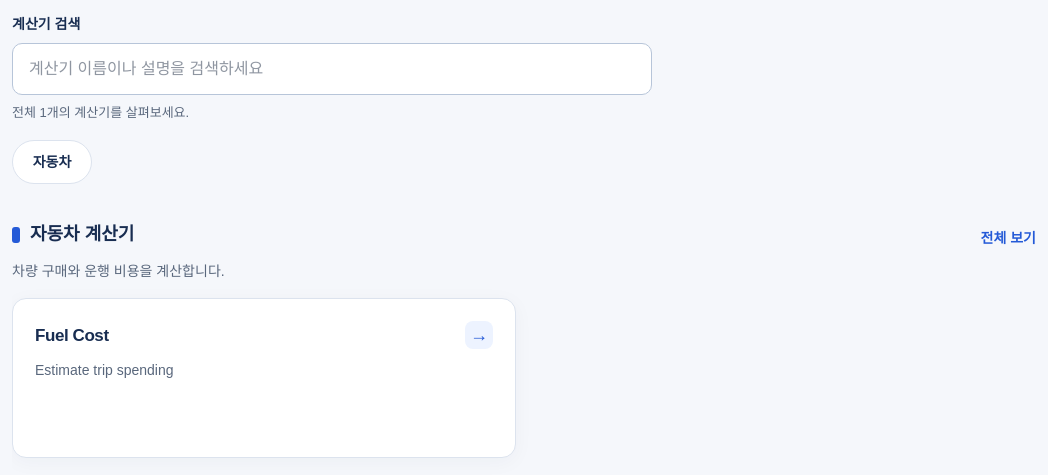
matches case-insensitively against only calculator titles and descriptions
This screenshot has width=1048, height=475.
Type "fUeL" into the search field labelled "계산기 검색" at (332, 69), box [12,43,652,95]
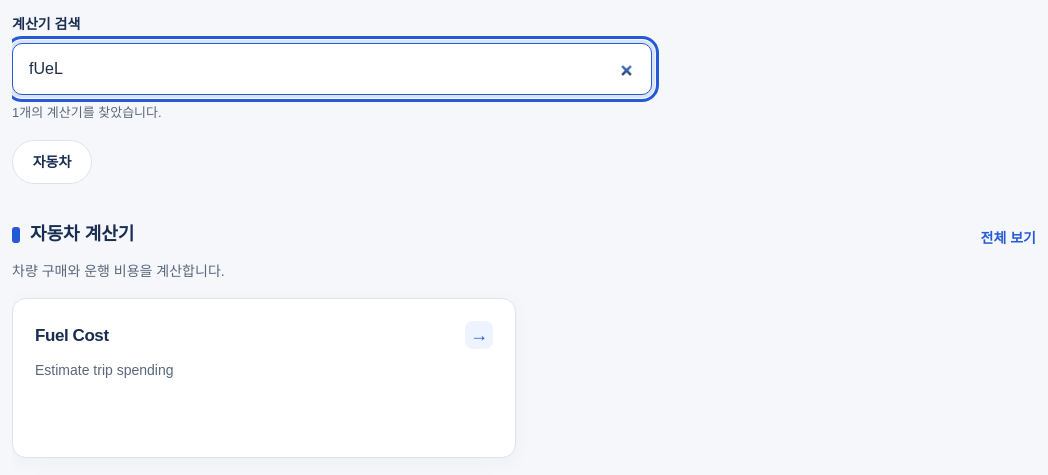
Expected: the link "Fuel Cost Estimate trip spending →" is shown, [12,298,516,458]
Replace the text in the search field labelled "계산기 검색" with "TRIP" at (332, 69), box [12,43,652,95]
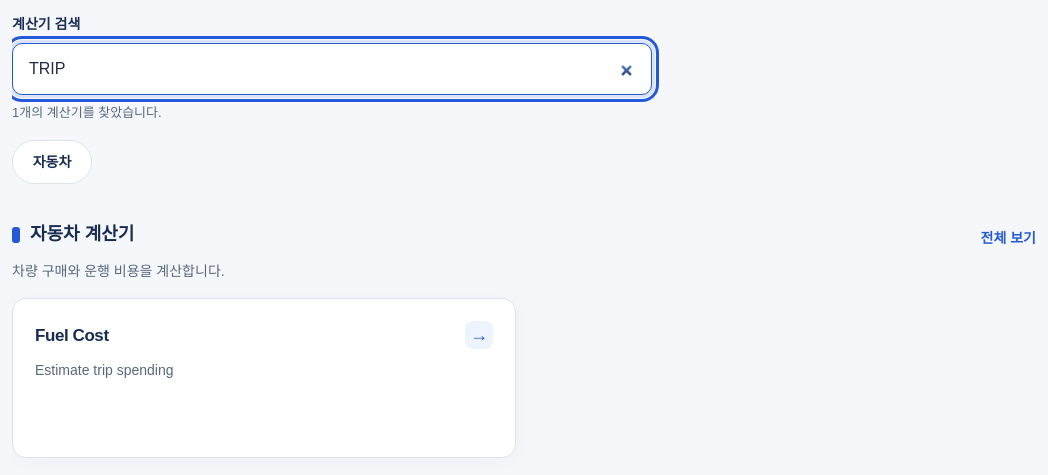
Expected: the link "Fuel Cost Estimate trip spending →" is shown, [12,298,516,458]
Replace the text in the search field labelled "계산기 검색" with "자동차" at (332, 69), box [12,43,652,95]
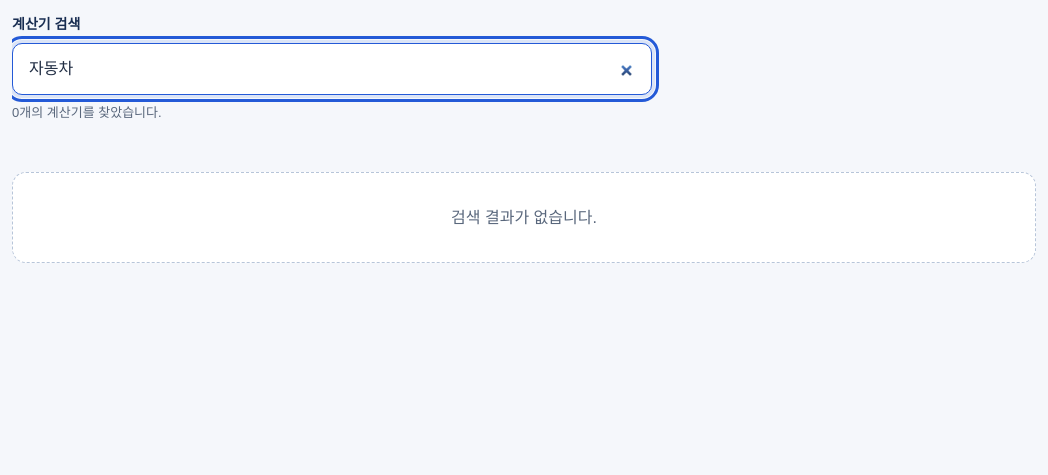
Expected: the text "검색 결과가 없습니다." is shown, [12,172,1036,263]
